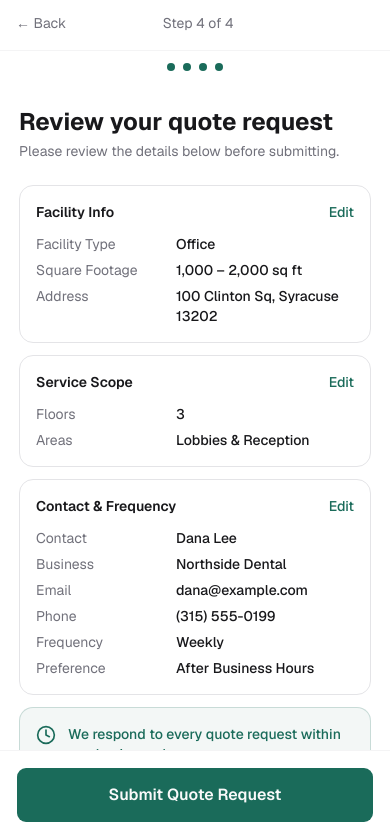
Test: commercial review: submit failures › never reports success without a reference
The image size is (390, 839).
Click the button "Submit Quote Request".
click(195, 795)  # box [16,767,374,823]
(page scrolled)
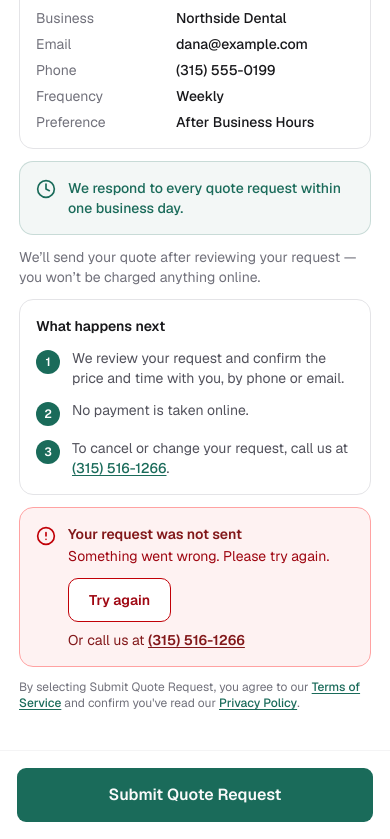
Expected: the message shows "Your request was not sent", [68,525,242,543]
